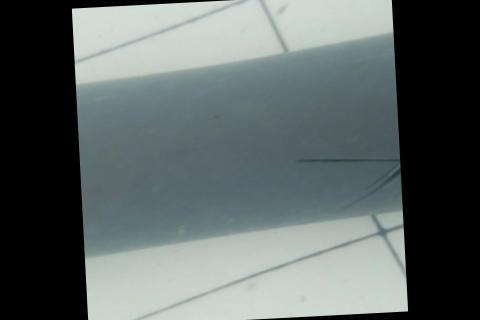keretakan: (291, 149, 402, 212)
